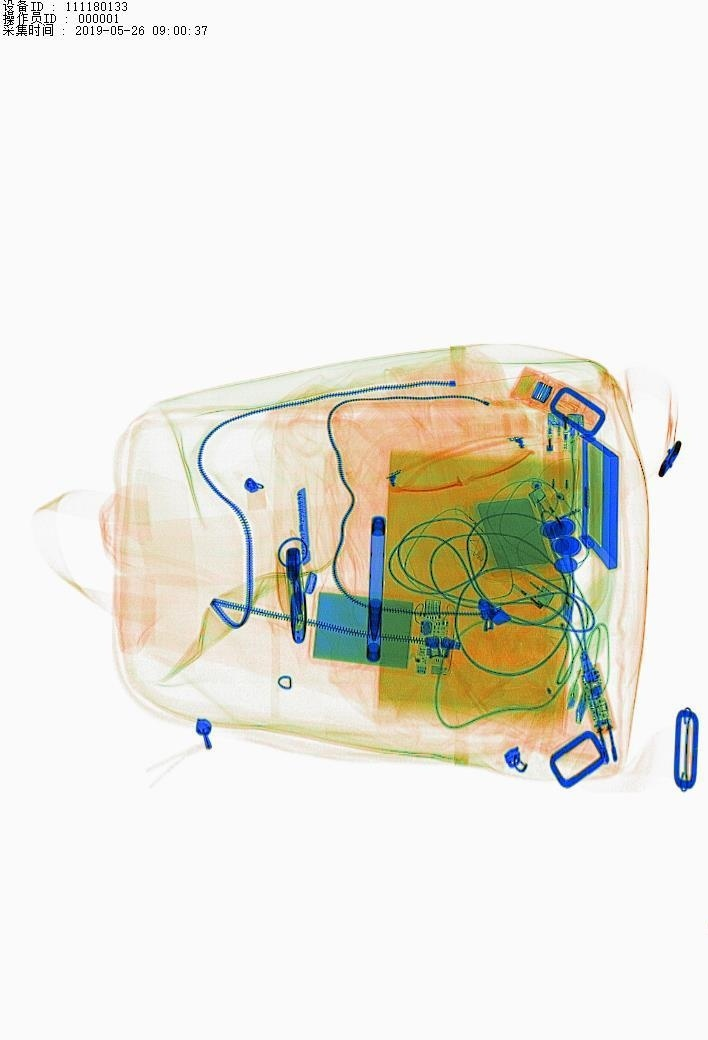NonmetallicFire: (486, 556, 556, 622), (526, 478, 573, 563), (565, 409, 607, 487), (539, 408, 566, 475)
